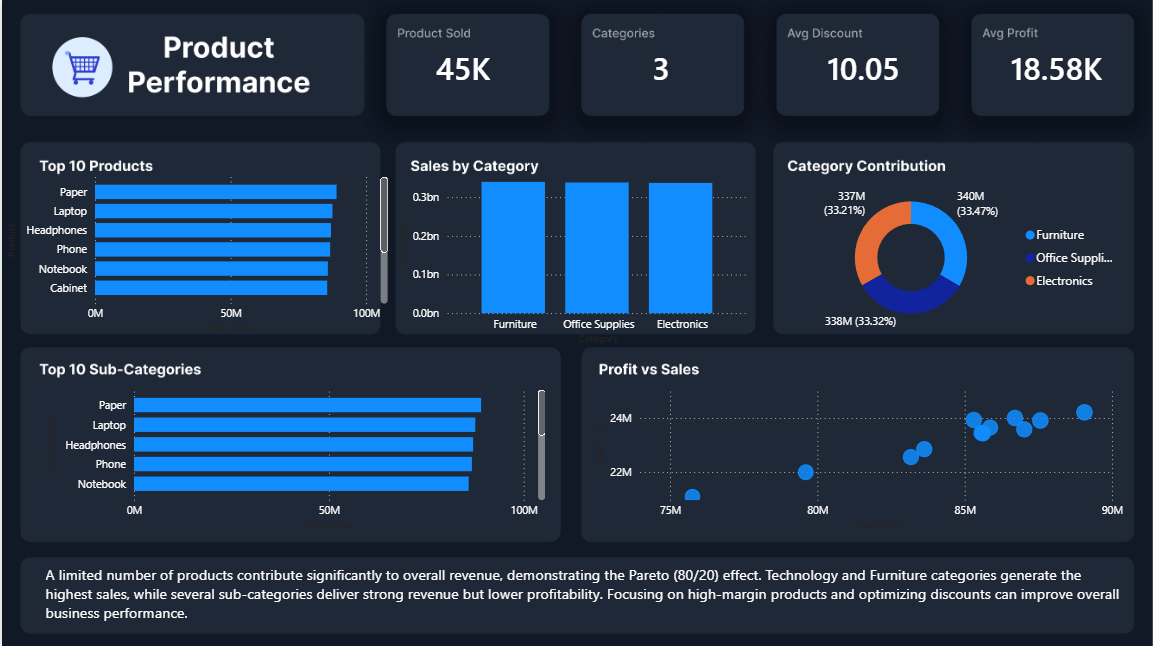

The dashboard page shown, as its layout file describes it:
{"tool":"powerbi","page":{"name":"Product Performance","canvas":[1280,720],"ordinal":2},"visuals":[{"type":"cardVisual","fields":{"Data":["Measures (3).Average Discount"]},"box":[878.3,16.7,158.3,113.3],"z":0},{"type":"cardVisual","fields":{"Data":["Measures (3).Average Profit Per Order"]},"box":[1091.7,16.7,160,113.3],"z":1000},{"type":"cardVisual","fields":{"Data":["Measures (3).Total Categories"]},"box":[653.3,16.7,158.3,113.3],"z":2000},{"type":"cardVisual","fields":{"Data":["Measures (3).Products Sold"]},"box":[433.3,16.7,158.3,113.3],"z":3000},{"type":"clusteredBarChart","fields":{"Category":["Dataset.Product"],"Y":["Measures (3).Total Sales"]},"box":[0,183.3,433.3,191.7],"z":4000},{"type":"columnChart","fields":{"Category":["Dataset.Category"],"Y":["Measures (3).Total Sales"]},"box":[433.3,183.3,401.7,203.3],"z":5000},{"type":"donutChart","fields":{"Category":["Dataset.Category"],"Y":["Measures (3).Total Sales"]},"box":[878.3,196.7,371.7,178.3],"z":6000},{"type":"scatterChart","fields":{"X":["Measures (3).Total Sales"],"Y":["Measures (3).Total Profit"],"Category":["Dataset.Product"],"Size":["Sum(Dataset.Quantity)"]},"box":[653.3,420,596.7,173.3],"z":7000},{"type":"barChart","fields":{"Category":["Dataset.Sub_Category"],"Y":["Measures (3).Total Sales"]},"box":[43.3,420,565,173.3],"z":9000},{"type":"textbox","box":[42.9,621.9,1207.3,74.8],"z":10000}]}

Visuals, with their boxes in screenshot pixels (x1, y1, x2, y2), scaled from the page's 1280x720 canvas onto the 1153x646 screenshot:
cardVisual - Measures (3).Average Discount: <box>791,15,934,117</box>
cardVisual - Measures (3).Average Profit Per Order: <box>983,15,1128,117</box>
cardVisual - Measures (3).Total Categories: <box>588,15,731,117</box>
cardVisual - Measures (3).Products Sold: <box>390,15,533,117</box>
clusteredBarChart - Dataset.Product x Measures (3).Total Sales: <box>0,164,390,336</box>
columnChart - Dataset.Category x Measures (3).Total Sales: <box>390,164,752,347</box>
donutChart - Dataset.Category x Measures (3).Total Sales: <box>791,176,1126,336</box>
scatterChart - Measures (3).Total Sales x Measures (3).Total Profit: <box>588,377,1126,532</box>
barChart - Dataset.Sub_Category x Measures (3).Total Sales: <box>39,377,548,532</box>
textbox: <box>39,558,1126,625</box>
